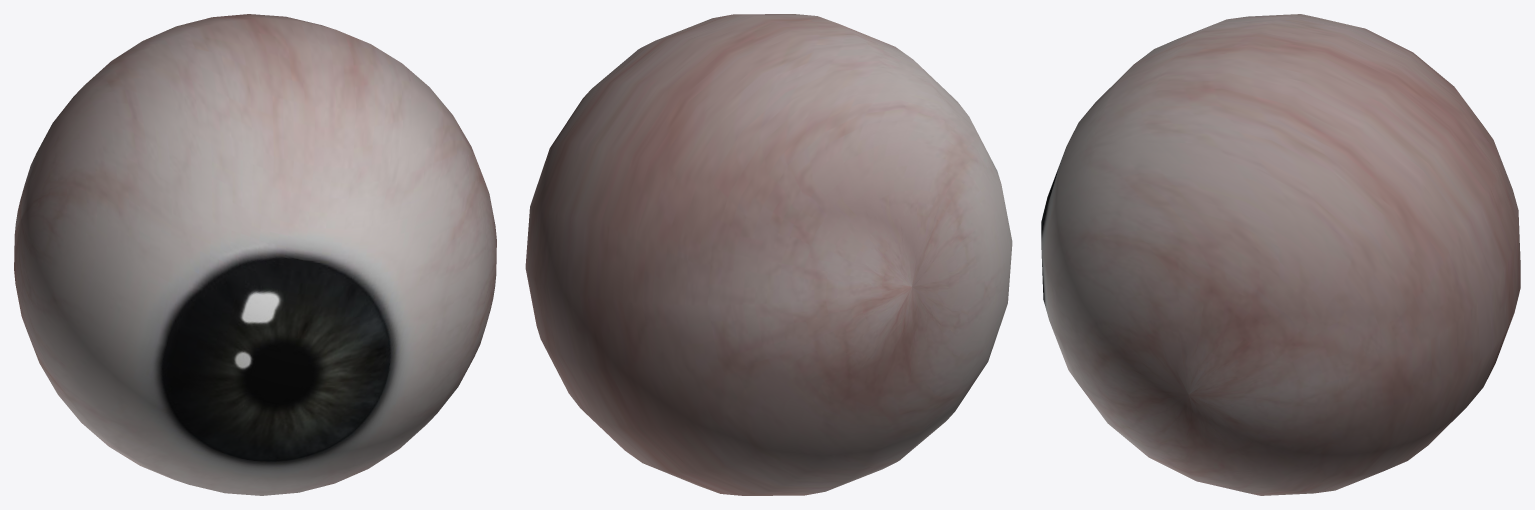
Rendered from EyeBall1.obj.
The picture shows the model from 3 angles, left to right: view 1: azimuth 30°, elevation 25°; view 2: azimuth 150°, elevation 25°; view 3: azimuth 270°, elevation 25°; orthographic projection.
Visible parts, largest first — view 1: pSphere3; view 2: pSphere3; view 3: pSphere3.
Boxes of the visible parts, x1,y1,x2,y2 form: pSphere3: (14, 14, 496, 495); pSphere3: (525, 14, 1012, 495); pSphere3: (1041, 14, 1520, 495).
Bounding box in the file's own units: 2.36 × 2.35 × 2.34.
Materials: 1 (1 with a texture image).
